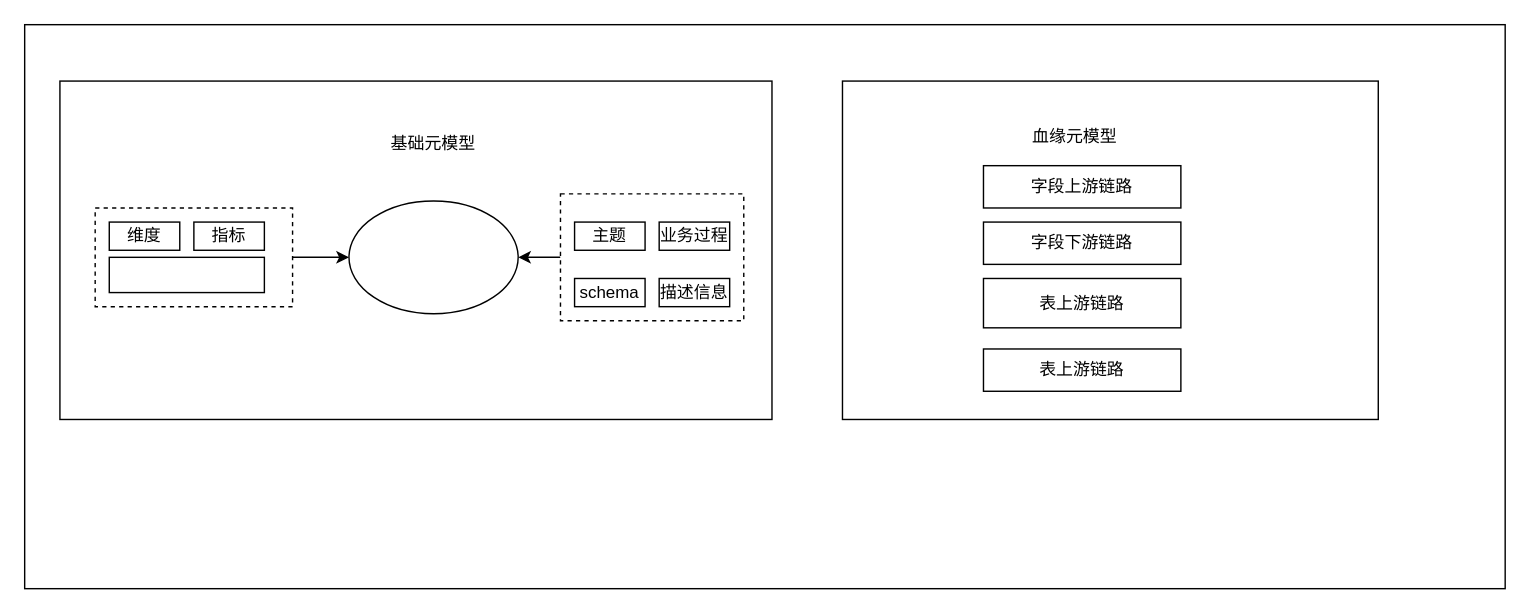
Image size: 1530x613. Some labels were removed from this diagram. The shapes that lost their labels are listed below. From the top down, each one's box as (x1, y1, x2, y2) in pixels, then its label:
(108, 256, 264, 293): 应用
(348, 200, 518, 314): 物理表
